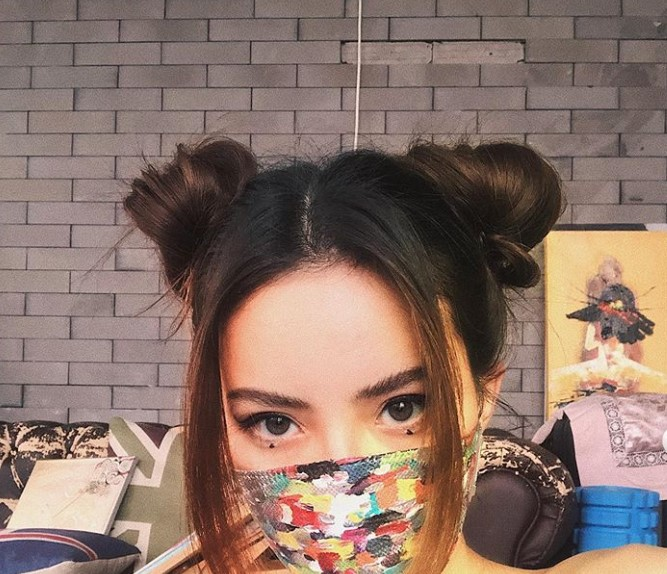face_with_mask: (189, 249, 499, 574)
